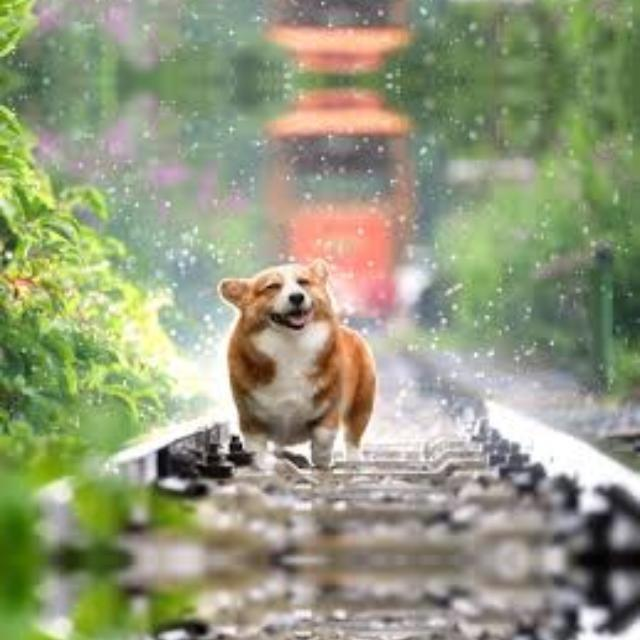dog: (214, 248, 386, 470)
